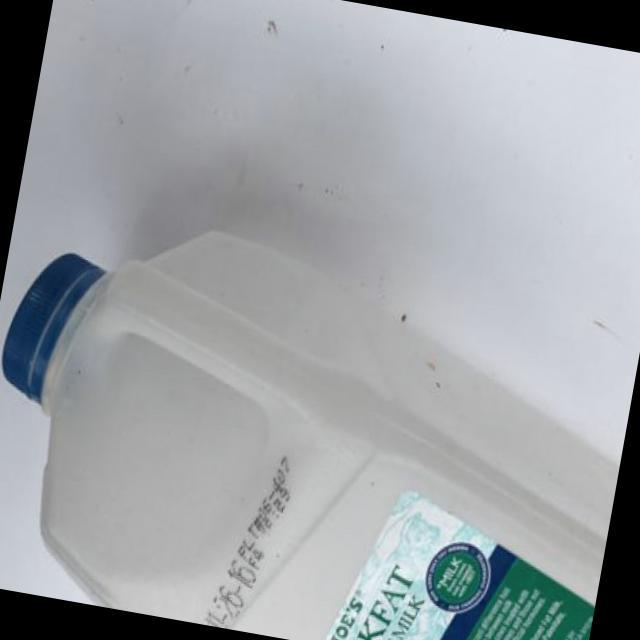HDPE Plastic: (2, 227, 618, 639)
